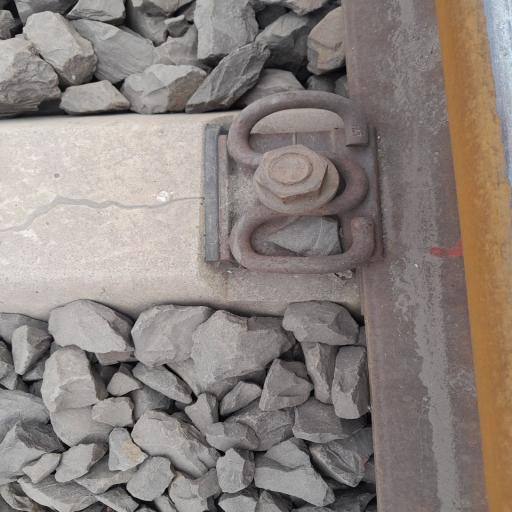bolt: (243, 140, 329, 200)
clip: (214, 82, 380, 294)
